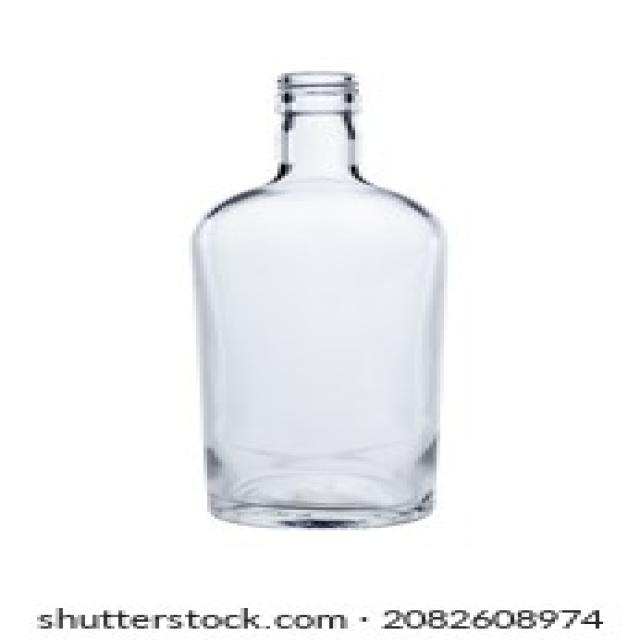glass: (188, 69, 474, 537)
